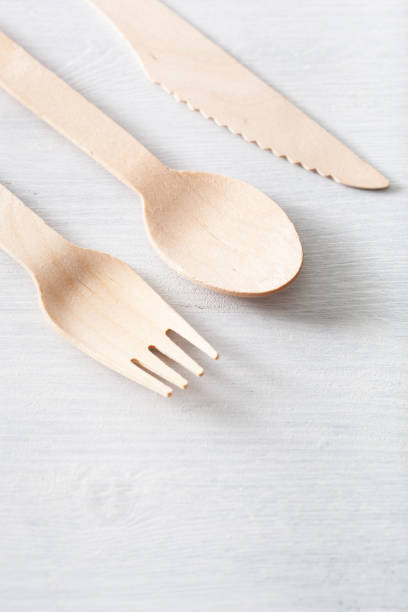Wooden Utensils: (4, 17, 313, 312), (81, 1, 403, 201), (1, 179, 214, 421)
